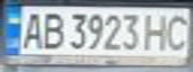2: (103, 10, 124, 52)
3: (121, 11, 145, 52), (66, 10, 87, 51)
9: (84, 10, 106, 52)
A: (18, 9, 48, 51)
B: (39, 9, 66, 51)
C: (163, 10, 193, 52)
H: (139, 10, 172, 52)
